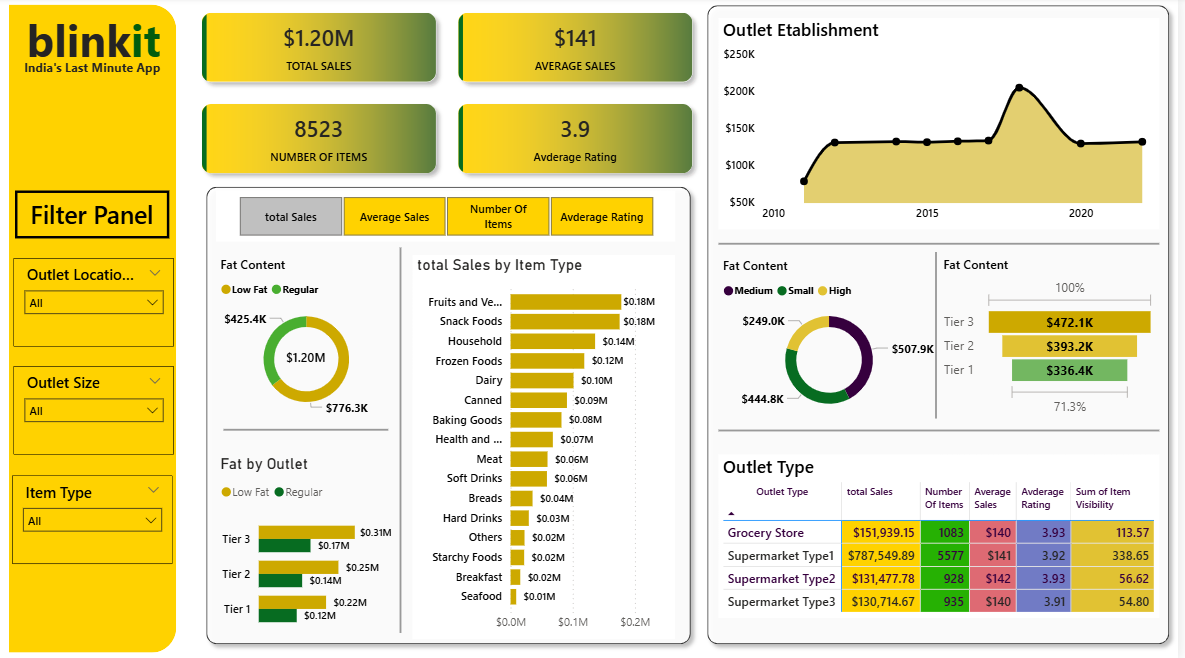

The page's visual inventory and layout, read from the dashboard file:
{"tool":"powerbi","page":{"name":"Page 1","canvas":[1280,720],"ordinal":0},"visuals":[{"type":"shape","box":[13.2,7.6,181.4,703],"z":0},{"type":"textbox","box":[21.1,8.1,167.5,76.4],"z":1000},{"type":"textbox","box":[9.8,61.8,187.1,43.9],"z":2000},{"type":"cardVisual","fields":{"Data":["Blinkit dashboard Data.total Sales","Blinkit dashboard Data.Average Sales","Blinkit dashboard Data.Number Of Items","Blinkit dashboard Data.Avderage Rating"]},"box":[204.9,0,567.7,209.8],"z":3000},{"type":"shape","box":[218,196.8,543.3,514],"z":4000},{"type":"donutChart","title":"Fat Content","fields":{"Y":["Blinkit dashboard Data.total Sales"],"Category":["Blinkit dashboard Data.Item Fat Content"]},"box":[237.5,279.8,195.2,180.5],"z":5000},{"type":"slicer","fields":{"Values":["Metrics.Metrics"]},"box":[237.5,209.8,497.7,55.3],"z":6000},{"type":"cardVisual","fields":{"Data":["Blinkit dashboard Data.total Sales"]},"box":[257,356.2,156.1,60.2],"z":7000},{"type":"clusteredBarChart","title":"Fat by Outlet ","fields":{"Y":["Blinkit dashboard Data.total Sales"],"Category":["Blinkit dashboard Data.Outlet Location Type"],"Series":["Blinkit dashboard Data.Item Fat Content"]},"box":[237.5,496.1,195.2,203.3],"z":8000},{"type":"shape","box":[245.6,453.8,178.9,30.9],"z":9000},{"type":"barChart","fields":{"Y":["Blinkit dashboard Data.total Sales"],"Category":["Blinkit dashboard Data.Item Type"]},"box":[450.6,279.8,284.6,416.4],"z":10000},{"type":"shape","box":[424.5,271.6,26,418],"z":11000},{"type":"shape","box":[761.2,0,518.9,710.8],"z":12000},{"type":"lineChart","title":"Outlet Etablishment","fields":{"Y":["Blinkit dashboard Data.total Sales"],"Category":["Blinkit dashboard Data.Outlet Establishment Year"]},"box":[782.4,22.8,478.2,229.3],"z":13000},{"type":"shape","box":[782.4,252.1,478.2,30.9],"z":14000},{"type":"donutChart","title":"Fat Content","fields":{"Y":["Blinkit dashboard Data.total Sales"],"Category":["Blinkit dashboard Data.Outlet Size"]},"box":[782.4,281.4,239.1,178.9],"z":15000},{"type":"funnel","title":"Fat Content","fields":{"Category":["Blinkit dashboard Data.Outlet Location Type"],"Y":["Blinkit dashboard Data.total Sales"]},"box":[1021.5,279.8,239.1,178.9],"z":16000},{"type":"shape","box":[782.4,448.9,478.2,42.3],"z":17000},{"type":"pivotTable","title":"Outlet Type","fields":{"Rows":["Blinkit dashboard Data.Outlet Type"],"Values":["Blinkit dashboard Data.total Sales","Blinkit dashboard Data.Number Of Items","Blinkit dashboard Data.Average Sales","Blinkit dashboard Data.Avderage Rating","Sum(Blinkit dashboard Data.Item Visibility)"]},"box":[782.4,496.1,478.2,177.3],"z":18000},{"type":"shape","box":[1011.7,276.5,13,180.5],"z":19000},{"type":"slicer","fields":{"Values":["Blinkit dashboard Data.Outlet Location Type"]},"box":[17.9,283,174,96],"z":20000},{"type":"slicer","fields":{"Values":["Blinkit dashboard Data.Outlet Size"]},"box":[17.9,400.1,174,96],"z":21000},{"type":"slicer","fields":{"Values":["Blinkit dashboard Data.Item Type"]},"box":[16.3,518.9,174,96],"z":22000},{"type":"textbox","box":[19.5,209.8,167.5,52],"z":23000}]}

Visuals, with their boxes in screenshot pixels (x1, y1, x2, y2), scaled from the page's 1280x720 canvas onto the 1185x658 screenshot:
shape: BBox(12, 7, 180, 649)
textbox: BBox(20, 7, 175, 77)
textbox: BBox(9, 56, 182, 97)
cardVisual - Blinkit dashboard Data.total Sales x Blinkit dashboard Data.Average Sales: BBox(190, 0, 715, 192)
shape: BBox(202, 180, 705, 650)
"Fat Content" donutChart: BBox(220, 256, 401, 421)
slicer - Metrics.Metrics: BBox(220, 192, 681, 242)
cardVisual - Blinkit dashboard Data.total Sales: BBox(238, 326, 382, 381)
"Fat by Outlet " clusteredBarChart: BBox(220, 453, 401, 639)
shape: BBox(227, 415, 393, 443)
barChart - Blinkit dashboard Data.total Sales x Blinkit dashboard Data.Item Type: BBox(417, 256, 681, 636)
shape: BBox(393, 248, 417, 630)
shape: BBox(705, 0, 1184, 650)
"Outlet Etablishment" lineChart: BBox(724, 21, 1167, 230)
shape: BBox(724, 230, 1167, 259)
"Fat Content" donutChart: BBox(724, 257, 946, 421)
"Fat Content" funnel: BBox(946, 256, 1167, 419)
shape: BBox(724, 410, 1167, 449)
"Outlet Type" pivotTable: BBox(724, 453, 1167, 615)
shape: BBox(937, 253, 949, 418)
slicer - Blinkit dashboard Data.Outlet Location Type: BBox(17, 259, 178, 346)
slicer - Blinkit dashboard Data.Outlet Size: BBox(17, 366, 178, 453)
slicer - Blinkit dashboard Data.Item Type: BBox(15, 474, 176, 562)
textbox: BBox(18, 192, 173, 239)
